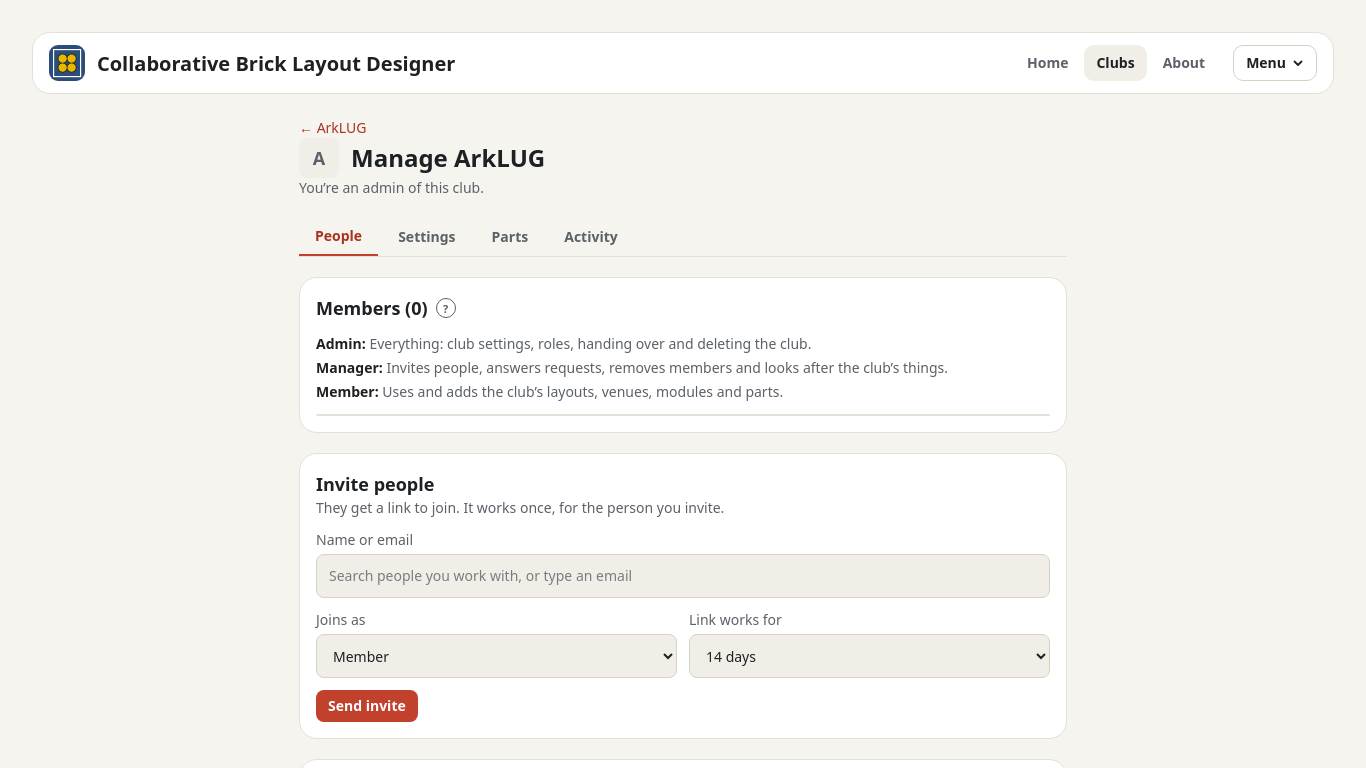
Scenario: the club Parts tab › shows an admin the library switches as well
Click the tab "Parts" at (510, 237), box 476,218 -> 544,256
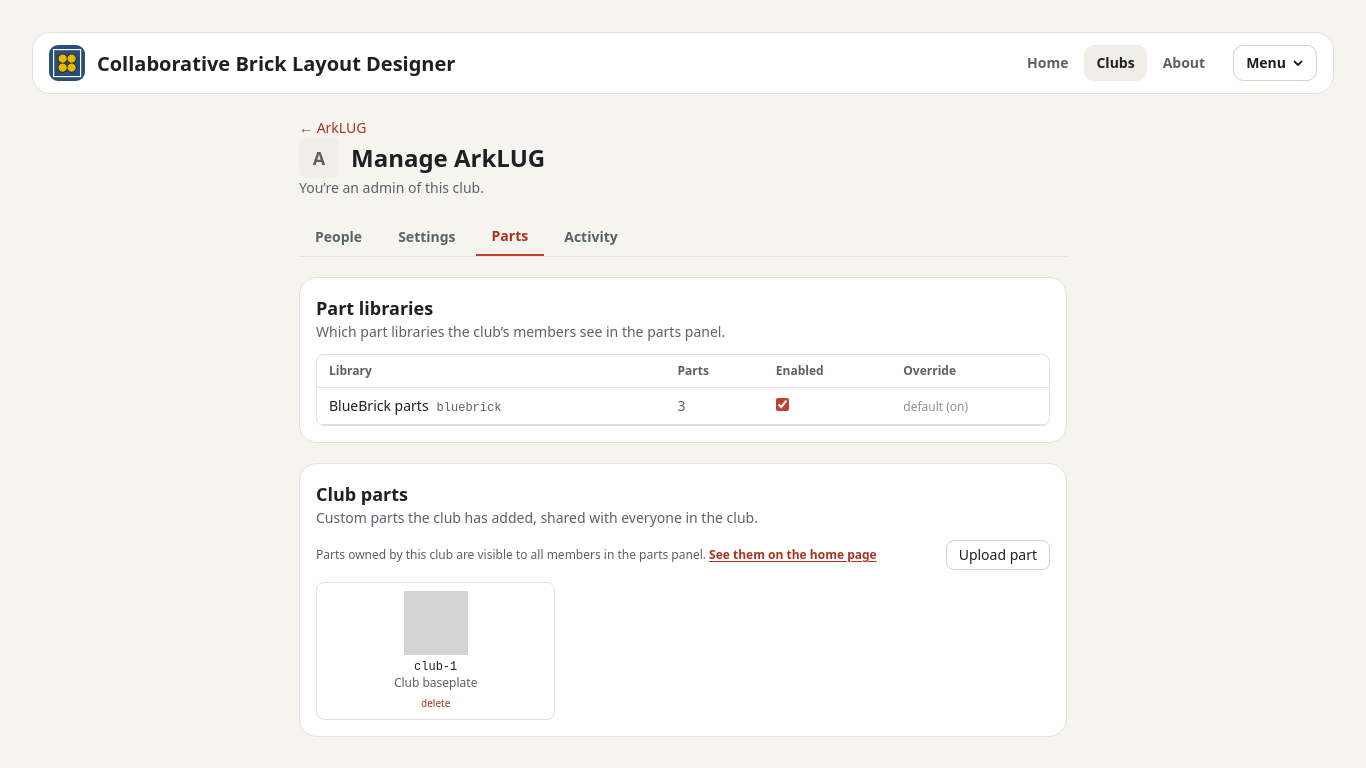
Expected: the tab "Settings" is shown, 382,218 -> 472,256
Result: the heading "Part libraries" is shown at 316,296 -> 433,320
Result: the text "club-1" is shown at 414,659 -> 457,675
